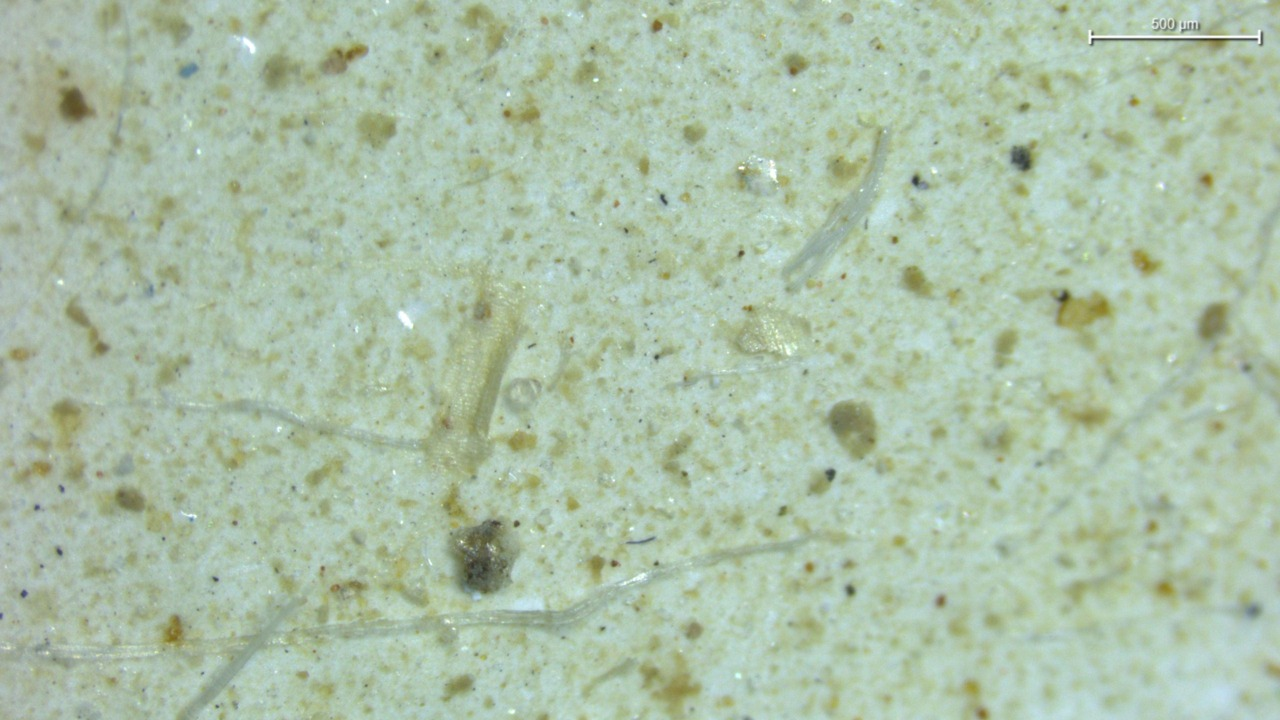microplastic_fragment: (453, 520, 509, 593), (735, 307, 807, 356), (501, 378, 542, 413)
